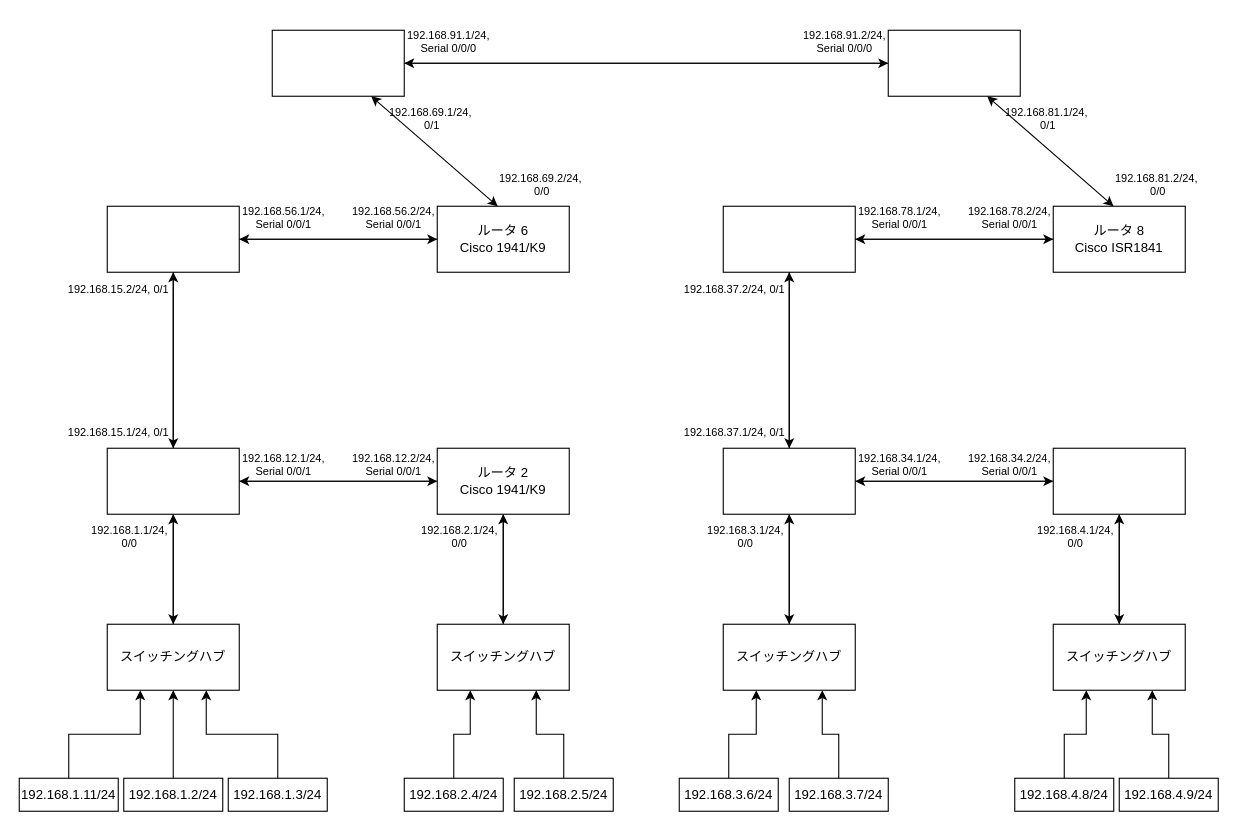
The diagram is 1238 pixels wide and 831 high, and some of its shapes have lost their labels. Each missing label, with the centre of its shape:
"ルータ 1 Cisco 1941/K9" goes at pixel 172 480.
"ルータ 10 Cisco 1941/K9" goes at pixel 953 62.
"ルータ 3 Cisco 1941/K9" goes at pixel 788 480.
"ルータ 4 Cisco ISR1841" goes at pixel 1118 480.
"ルータ 5 Cisco 1941/K9" goes at pixel 172 238.
"ルータ 7 Cisco ISR1841" goes at pixel 788 238.
"ルータ 9 Cisco ISR1841" goes at pixel 337 62.
